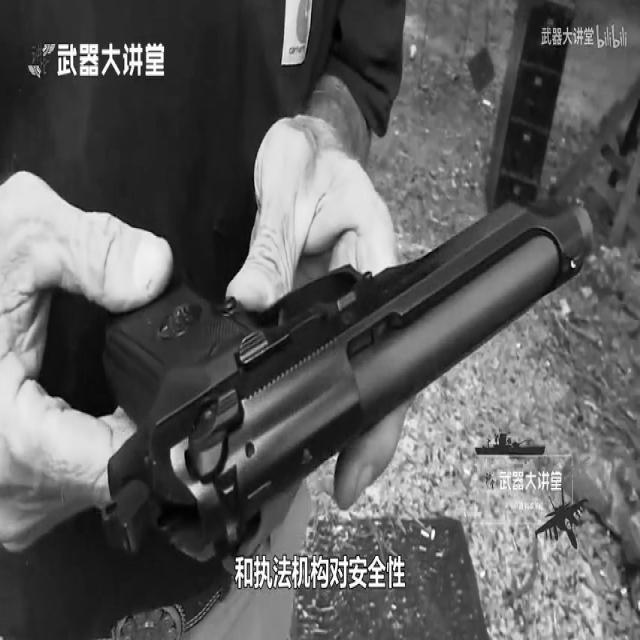Hand-Gun: (71, 143, 608, 624)
